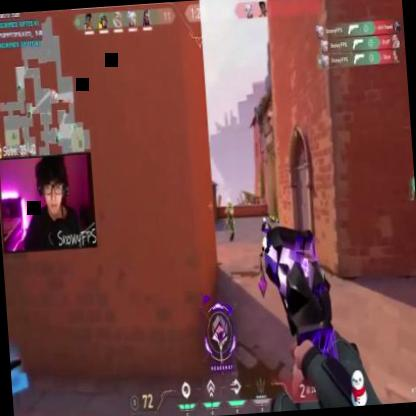enemy: (224, 196, 236, 244)
enemy_head: (226, 198, 232, 208)
